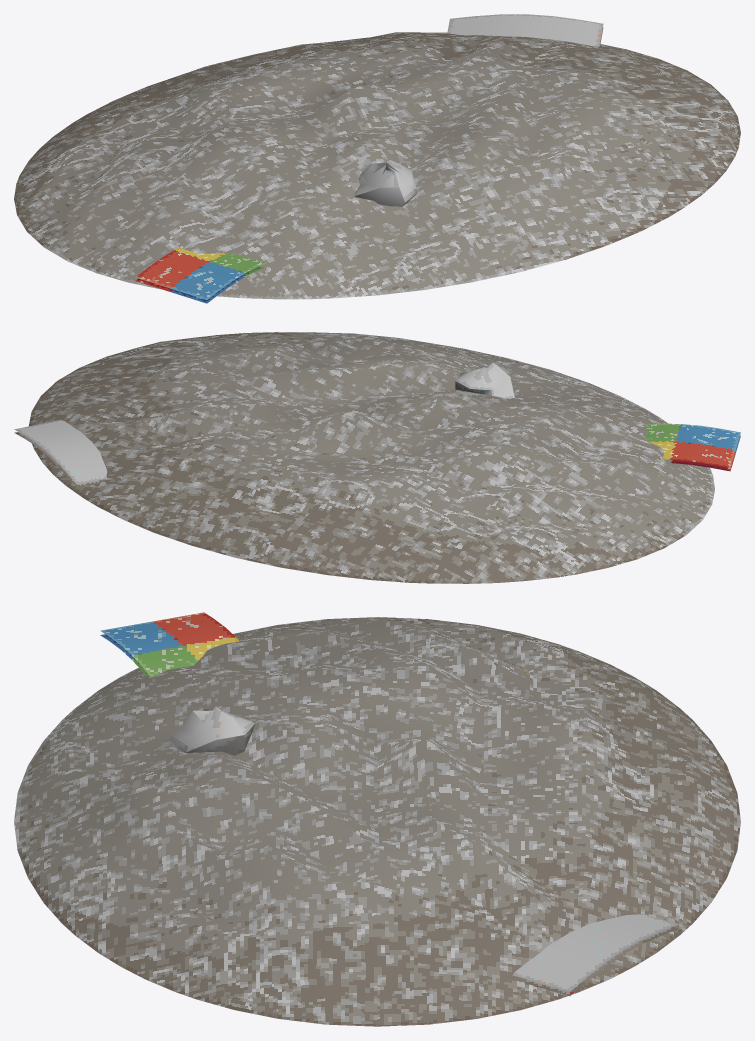
The model's file is dustpile.glb.
The picture shows the model from 3 angles, top to bottom: view 1: azimuth 30°, elevation 25°; view 2: azimuth 150°, elevation 25°; view 3: azimuth 270°, elevation 25°; orthographic projection. The views are drawn at different scales.
Parts seen in each view (by area): view 1: mesh; view 2: mesh; view 3: mesh.
Part boxes in pixels (box(x1,y1,x2,y2)): mesh: box(14, 14, 740, 303); mesh: box(14, 332, 740, 583); mesh: box(14, 612, 740, 1026).
Bounding box in the file's own units: 0.6006 × 0.056 × 0.4505.
Materials: 1 (1 with a texture image).
